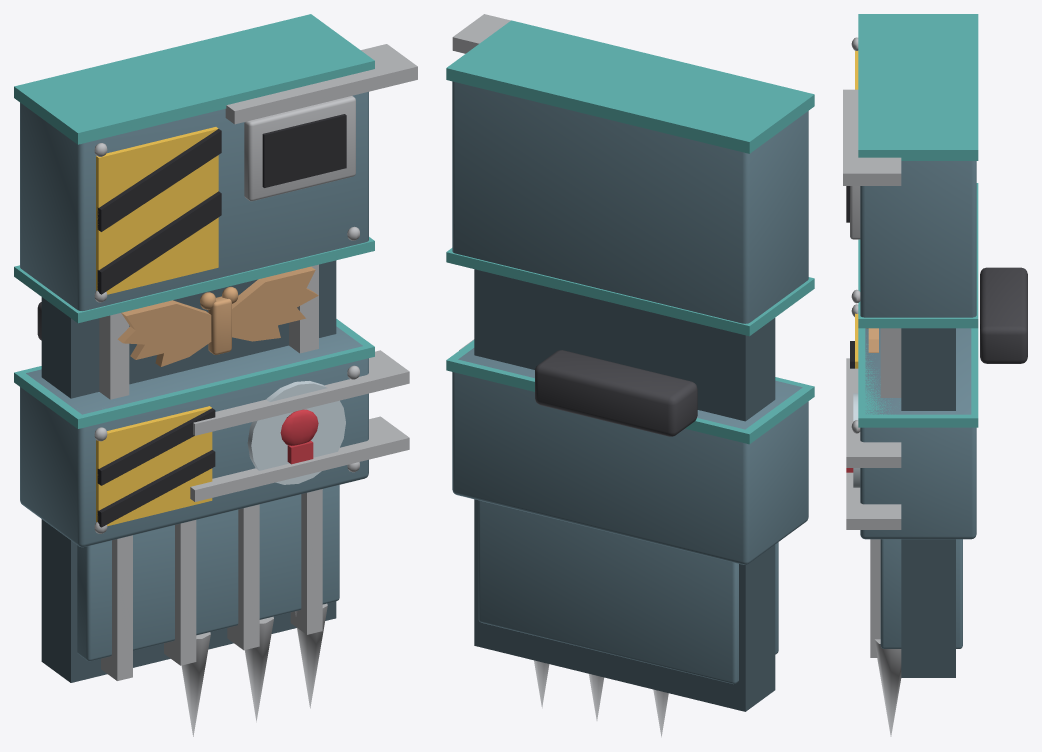
File: BullgrynShield.fbx
3 renders of one model, left to right at view 1: azimuth 30°, elevation 25°; view 2: azimuth 150°, elevation 25°; view 3: azimuth 270°, elevation 25°, orthographic. The views are drawn at different scales.
Parts seen in each view (by area): view 1: BullgrynShield; view 2: BullgrynShield; view 3: BullgrynShield.
Part boxes in pixels (left/top/right/bottom): BullgrynShield: left=14, top=14, right=417, bottom=736; BullgrynShield: left=446, top=14, right=814, bottom=737; BullgrynShield: left=843, top=14, right=1027, bottom=736.
Bounding box in the file's own units: 1.05 × 1.96 × 0.54.
